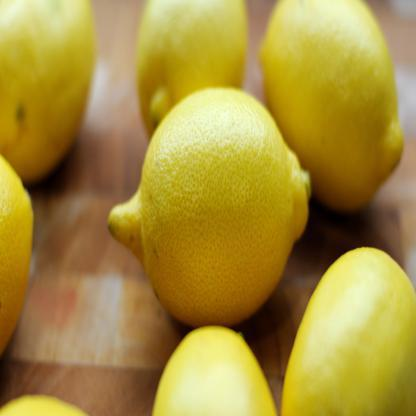lemon: (105, 82, 314, 335), (256, 0, 406, 219), (0, 0, 99, 196), (135, 0, 253, 151)
